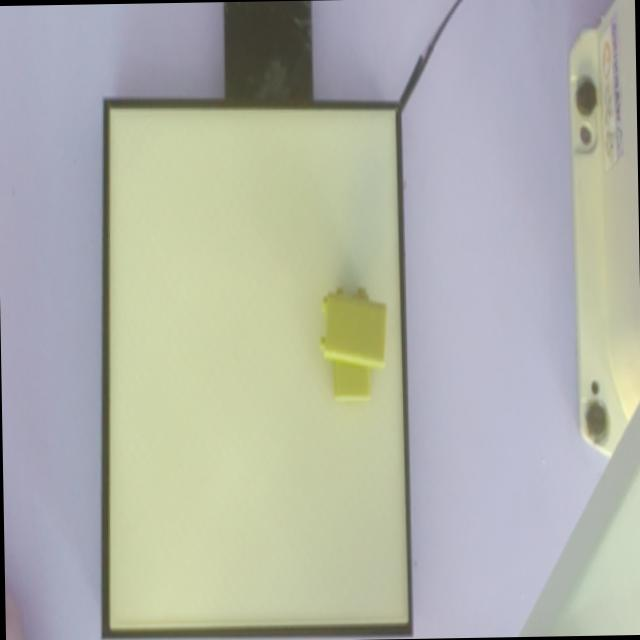bateria: (320, 291, 387, 369)
mesa: (102, 99, 412, 638)
